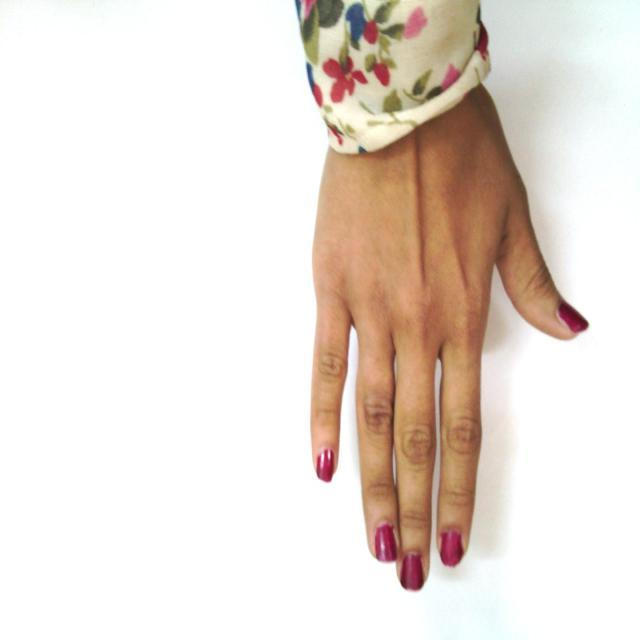Fingernail: (559, 302, 588, 333), (401, 553, 424, 591), (375, 525, 398, 562), (441, 531, 462, 566), (318, 449, 333, 482)
